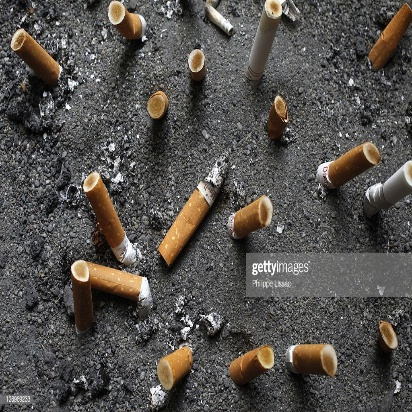cigarette: (165, 148, 228, 271), (82, 167, 138, 265), (66, 261, 162, 314), (308, 141, 383, 203), (6, 26, 71, 90), (364, 1, 410, 74), (248, 1, 283, 86), (283, 339, 344, 381), (366, 157, 412, 210), (102, 1, 150, 46), (226, 346, 274, 390), (150, 346, 198, 389), (228, 197, 274, 237), (183, 45, 210, 86), (142, 88, 171, 120), (372, 322, 400, 351)
